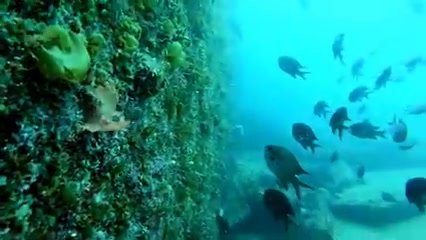mezina: (264, 142, 321, 200), (262, 185, 300, 232), (288, 118, 321, 156), (272, 52, 312, 83), (348, 118, 388, 145), (383, 110, 409, 145), (310, 98, 333, 120)
